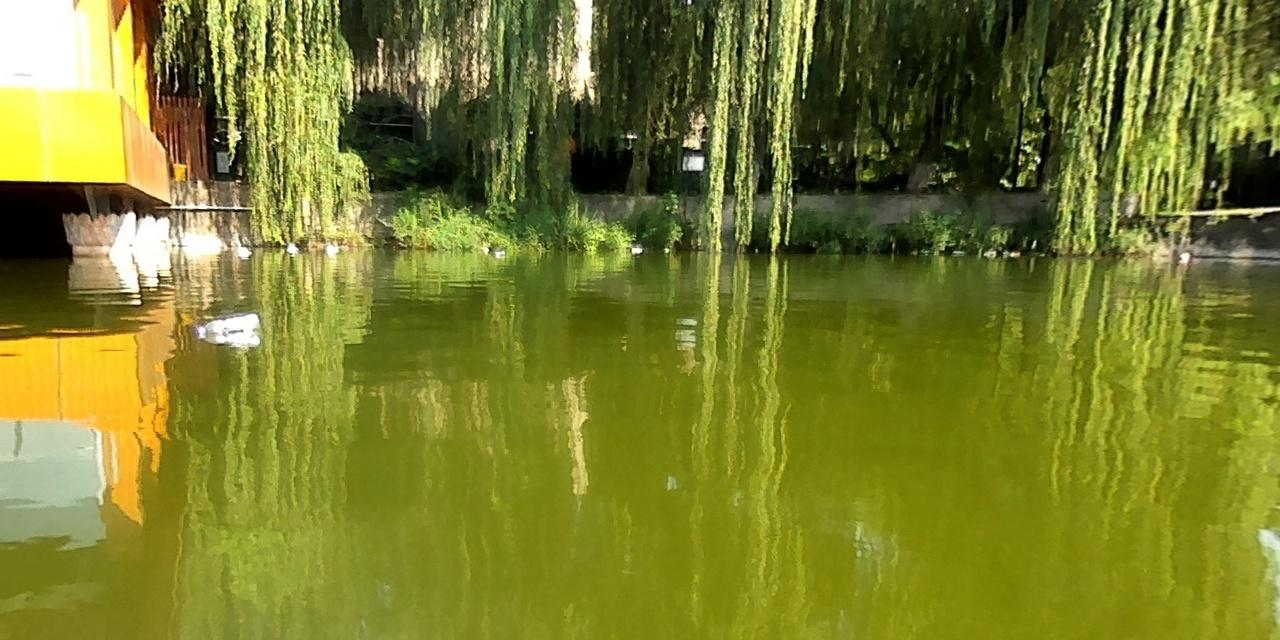bottle: (196, 312, 259, 337), (236, 245, 249, 258), (285, 244, 296, 253)
